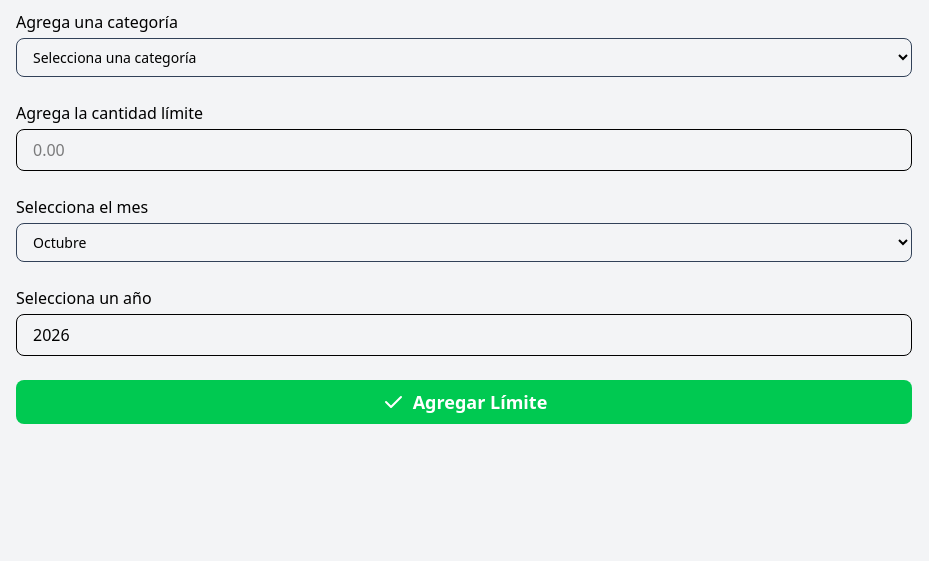
Test: FormAddExpenseLimit Test › Errores de validación › Debe mostrar error de validación del campo category
Step 1. Click the button "Agregar Límite" → (464, 402), box [16,380,912,424]
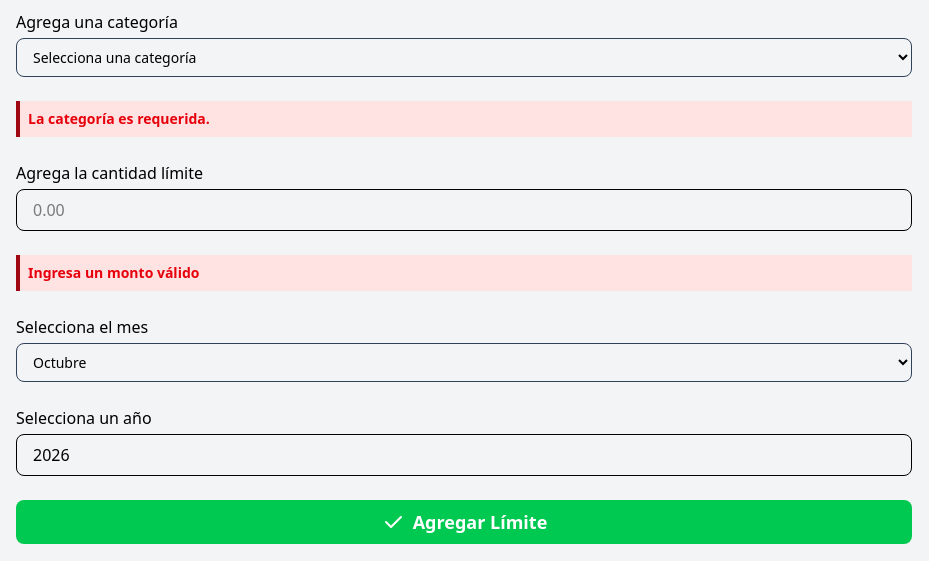
Check: the text "La categoría es requerida." is shown, box [16,101,912,137]
